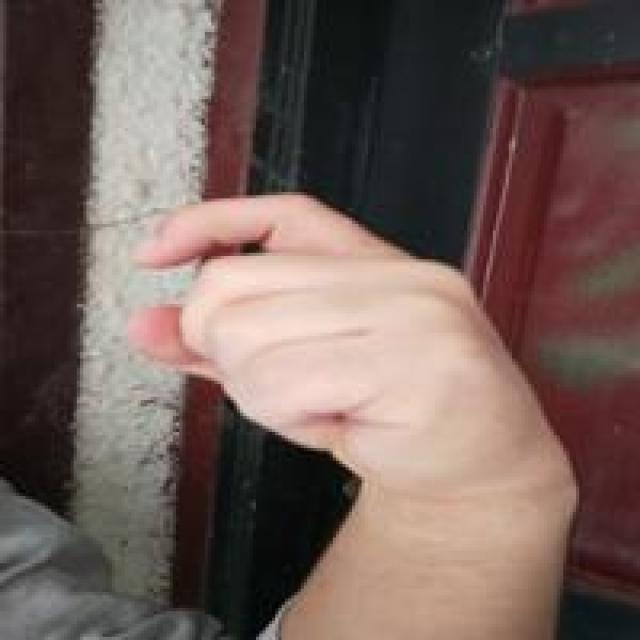X: (120, 176, 562, 515)
